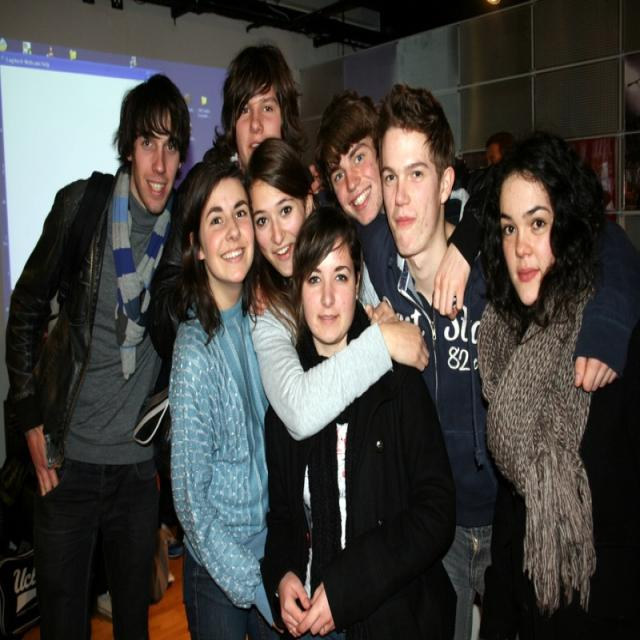body: (355, 81, 638, 640), (3, 67, 196, 638), (258, 202, 460, 639), (472, 128, 638, 639), (166, 152, 288, 640), (243, 136, 432, 442), (310, 81, 484, 325), (211, 39, 307, 178), (82, 498, 186, 626), (449, 120, 516, 204)
